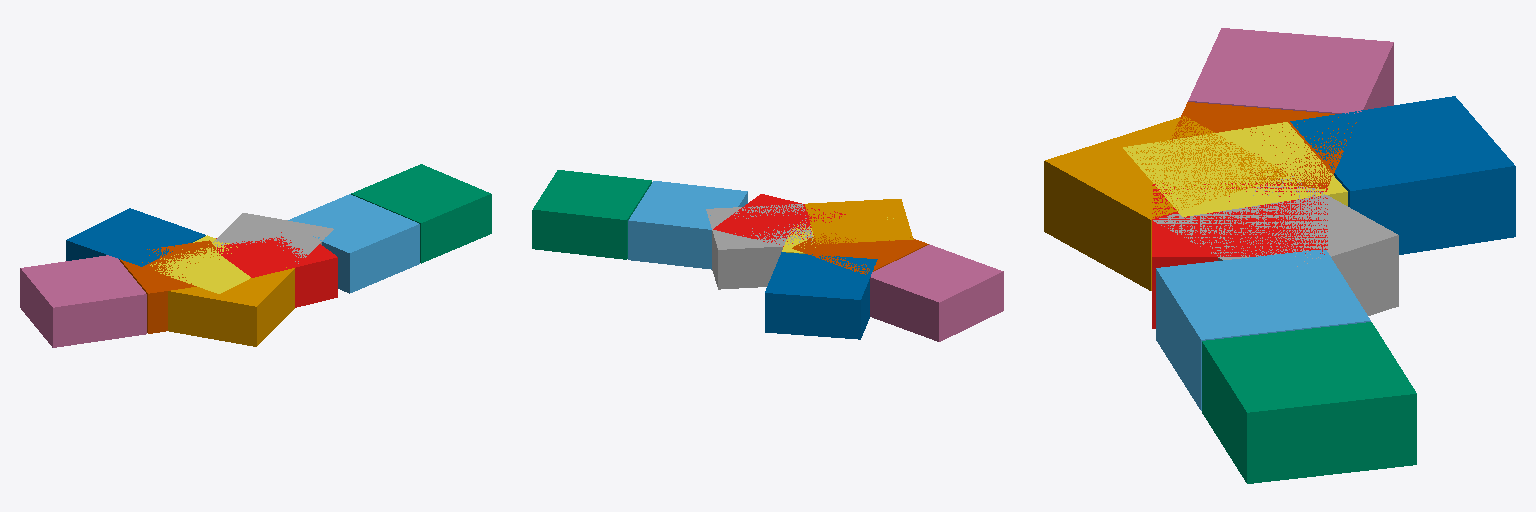
URDF robot description (Model_98):
<?xml version='1.0' encoding='UTF-8'?>
<robot name="Model_98">
  <link name="base_link">
    <inertial>
      <origin xyz="0.0 0.0 0.0" rpy="0.0 -0.0 0.0"/>
      <mass value="1.0"/>
      <inertia ixx="1.0" ixy="0.0" ixz="0.0" iyy="1.0" iyz="0.0" izz="1.0"/>
    </inertial>
    <visual>
      <geometry>
        <box size="0.67 0.67 0.3 "/>
      </geometry>
      <material name="red"/>
      <origin xyz="0.0 0.0 0.0" rpy="0.0 -0.0 0.0"/>
    </visual>
    <collision>
      <geometry>
        <box size="0.67 0.67 0.3 "/>
      </geometry>
      <origin xyz="0.0 0.0 0.0" rpy="0.0 0.0 0.0"/>
    </collision>
  </link>
  <link name="arm_0_arm1">
    <inertial>
      <origin xyz="0.0 0.34 0.0" rpy="0.0 0.0 0.0"/>
      <mass value="1.0"/>
      <inertia ixx="0.0" ixy="0.0" ixz="0.0" iyy="0.0" iyz="0.0" izz="0.0"/>
    </inertial>
    <visual>
      <geometry>
        <box size="0.67 0.67 0.3 "/>
      </geometry>
      <origin xyz="0.0 0.34 0.0" rpy="0.0 0.0 0.0"/>
    </visual>
    <collision>
      <geometry>
        <box size="0.67 0.67 0.3 "/>
      </geometry>
      <origin xyz="0.0 0.34 0.0" rpy="0.0 0.0 0.0"/>
    </collision>
  </link>
  <link name="arm_0_arm2">
    <inertial>
      <origin xyz="0.0 0.34 0.0" rpy="0.0 0.0 0.0"/>
      <mass value="1.0"/>
      <inertia ixx="0.0" ixy="0.0" ixz="0.0" iyy="0.0" iyz="0.0" izz="0.0"/>
    </inertial>
    <visual>
      <geometry>
        <box size="0.67 0.67 0.3 "/>
      </geometry>
      <origin xyz="0.0 0.34 0.0" rpy="0.0 0.0 0.0"/>
    </visual>
    <collision>
      <geometry>
        <box size="0.67 0.67 0.3 "/>
      </geometry>
      <origin xyz="0.0 0.34 0.0" rpy="0.0 0.0 0.0"/>
    </collision>
  </link>
  <link name="arm_1_arm1">
    <inertial>
      <origin xyz="0.0 0.34 0.0" rpy="0.0 0.0 0.0"/>
      <mass value="1.0"/>
      <inertia ixx="0.0" ixy="0.0" ixz="0.0" iyy="0.0" iyz="0.0" izz="0.0"/>
    </inertial>
    <visual>
      <geometry>
        <box size="0.67 0.67 0.3 "/>
      </geometry>
      <origin xyz="0.0 0.34 0.0" rpy="0.0 0.0 0.0"/>
    </visual>
    <collision>
      <geometry>
        <box size="0.67 0.67 0.3 "/>
      </geometry>
      <origin xyz="0.0 0.34 0.0" rpy="0.0 0.0 0.0"/>
    </collision>
  </link>
  <link name="arm_1_arm2">
    <inertial>
      <origin xyz="0.0 0.34 0.0" rpy="0.0 0.0 0.0"/>
      <mass value="1.0"/>
      <inertia ixx="0.0" ixy="0.0" ixz="0.0" iyy="0.0" iyz="0.0" izz="0.0"/>
    </inertial>
    <visual>
      <geometry>
        <box size="0.67 0.67 0.3 "/>
      </geometry>
      <origin xyz="0.0 0.34 0.0" rpy="0.0 0.0 0.0"/>
    </visual>
    <collision>
      <geometry>
        <box size="0.67 0.67 0.3 "/>
      </geometry>
      <origin xyz="0.0 0.34 0.0" rpy="0.0 0.0 0.0"/>
    </collision>
  </link>
  <link name="arm_2_arm1">
    <inertial>
      <origin xyz="0.0 0.34 0.0" rpy="0.0 0.0 0.0"/>
      <mass value="1.0"/>
      <inertia ixx="0.0" ixy="0.0" ixz="0.0" iyy="0.0" iyz="0.0" izz="0.0"/>
    </inertial>
    <visual>
      <geometry>
        <box size="0.67 0.67 0.3 "/>
      </geometry>
      <origin xyz="0.0 0.34 0.0" rpy="0.0 0.0 0.0"/>
    </visual>
    <collision>
      <geometry>
        <box size="0.67 0.67 0.3 "/>
      </geometry>
      <origin xyz="0.0 0.34 0.0" rpy="0.0 0.0 0.0"/>
    </collision>
  </link>
  <link name="arm_2_arm2">
    <inertial>
      <origin xyz="0.0 0.34 0.0" rpy="0.0 0.0 0.0"/>
      <mass value="1.0"/>
      <inertia ixx="0.0" ixy="0.0" ixz="0.0" iyy="0.0" iyz="0.0" izz="0.0"/>
    </inertial>
    <visual>
      <geometry>
        <box size="0.67 0.67 0.3 "/>
      </geometry>
      <origin xyz="0.0 0.34 0.0" rpy="0.0 0.0 0.0"/>
    </visual>
    <collision>
      <geometry>
        <box size="0.67 0.67 0.3 "/>
      </geometry>
      <origin xyz="0.0 0.34 0.0" rpy="0.0 0.0 0.0"/>
    </collision>
  </link>
  <link name="arm_3_arm1">
    <inertial>
      <origin xyz="0.0 0.34 0.0" rpy="0.0 0.0 0.0"/>
      <mass value="1.0"/>
      <inertia ixx="0.0" ixy="0.0" ixz="0.0" iyy="0.0" iyz="0.0" izz="0.0"/>
    </inertial>
    <visual>
      <geometry>
        <box size="0.67 0.67 0.3 "/>
      </geometry>
      <origin xyz="0.0 0.34 0.0" rpy="0.0 0.0 0.0"/>
    </visual>
    <collision>
      <geometry>
        <box size="0.67 0.67 0.3 "/>
      </geometry>
      <origin xyz="0.0 0.34 0.0" rpy="0.0 0.0 0.0"/>
    </collision>
  </link>
  <link name="arm_3_arm2">
    <inertial>
      <origin xyz="0.0 0.34 0.0" rpy="0.0 0.0 0.0"/>
      <mass value="1.0"/>
      <inertia ixx="0.0" ixy="0.0" ixz="0.0" iyy="0.0" iyz="0.0" izz="0.0"/>
    </inertial>
    <visual>
      <geometry>
        <box size="0.67 0.67 0.3 "/>
      </geometry>
      <origin xyz="0.0 0.34 0.0" rpy="0.0 0.0 0.0"/>
    </visual>
    <collision>
      <geometry>
        <box size="0.67 0.67 0.3 "/>
      </geometry>
      <origin xyz="0.0 0.34 0.0" rpy="0.0 0.0 0.0"/>
    </collision>
  </link>
  <joint name="arm_0_jointBase" type="fixed">
    <limit effort="1.57" velocity="1.57" lower="-1.57" upper="1.57"/>
    <parent link="base_link"/>
    <child link="arm_0_arm1"/>
    <axis xyz="1. 0. 0."/>
    <origin xyz="0.34 0.0 0.0" rpy="0.0 0.0 -1.31"/>
  </joint>
  <joint name="arm_0_joint1" type="revolute">
    <limit effort="1.57" velocity="1.57" lower="-1.57" upper="1.57"/>
    <parent link="arm_0_arm1"/>
    <child link="arm_0_arm2"/>
    <axis xyz="1. 0. 0."/>
    <origin xyz="0.0 0.68 0.0" rpy="0.0 0.0 0.0"/>
  </joint>
  <joint name="arm_1_jointBase" type="fixed">
    <limit effort="1.57" velocity="1.57" lower="-1.57" upper="1.57"/>
    <parent link="base_link"/>
    <child link="arm_1_arm1"/>
    <axis xyz="1. 0. 0."/>
    <origin xyz="-0.34 -0.34 0.0" rpy="0.0 0.0 0.35"/>
  </joint>
  <joint name="arm_1_joint1" type="revolute">
    <limit effort="1.57" velocity="1.57" lower="-1.57" upper="1.57"/>
    <parent link="arm_1_arm1"/>
    <child link="arm_1_arm2"/>
    <axis xyz="1. 0. 0."/>
    <origin xyz="0.0 0.68 0.0" rpy="0.0 0.0 0.0"/>
  </joint>
  <joint name="arm_2_jointBase" type="fixed">
    <limit effort="1.57" velocity="1.57" lower="-1.57" upper="1.57"/>
    <parent link="base_link"/>
    <child link="arm_2_arm1"/>
    <axis xyz="1. 0. 0."/>
    <origin xyz="-0.34 0.0 0.0" rpy="0.0 0.0 1.38"/>
  </joint>
  <joint name="arm_2_joint1" type="revolute">
    <limit effort="1.57" velocity="1.57" lower="-1.57" upper="1.57"/>
    <parent link="arm_2_arm1"/>
    <child link="arm_2_arm2"/>
    <axis xyz="1. 0. 0."/>
    <origin xyz="0.0 0.68 0.0" rpy="0.0 0.0 0.0"/>
  </joint>
  <joint name="arm_3_jointBase" type="fixed">
    <limit effort="1.57" velocity="1.57" lower="-1.57" upper="1.57"/>
    <parent link="base_link"/>
    <child link="arm_3_arm1"/>
    <axis xyz="1. 0. 0."/>
    <origin xyz="0.34 0.34 0.0" rpy="0.0 0.0 2.22"/>
  </joint>
  <joint name="arm_3_joint1" type="revolute">
    <limit effort="1.57" velocity="1.57" lower="-1.57" upper="1.57"/>
    <parent link="arm_3_arm1"/>
    <child link="arm_3_arm2"/>
    <axis xyz="1. 0. 0."/>
    <origin xyz="0.0 0.68 0.0" rpy="0.0 0.0 0.0"/>
  </joint>
  <material name="red">
    <color rgba="0.969 0.129 0.122 1.   "/>
  </material>
</robot>

--- Facts derived from the render (not from the file) ---
3 views of the same robot in one strip: view 1: azimuth 30°, elevation 25°; view 2: azimuth 150°, elevation 25°; view 3: azimuth 270°, elevation 25° (orthographic).
Robot: Model_98 — 9 links, 8 joints (4 revolute, 4 fixed); root link base_link; default pose: all joints at 0.
Links seen in each view (by area): view 1: arm_2_arm2, arm_0_arm2, arm_0_arm1, arm_3_arm2, arm_1_arm2, base_link, arm_2_arm1, arm_3_arm1, arm_1_arm1; view 2: arm_2_arm2, arm_1_arm2, arm_0_arm2, arm_0_arm1, arm_3_arm1, arm_3_arm2, base_link, arm_2_arm1; view 3: arm_0_arm2, arm_1_arm2, arm_0_arm1, arm_3_arm2, arm_2_arm2, arm_1_arm1, arm_3_arm1, base_link, arm_2_arm1.
Link boxes in pixels (<box>): arm_2_arm2: <box>20,255,146,347</box>; arm_0_arm2: <box>351,164,491,263</box>; arm_0_arm1: <box>288,194,419,293</box>; arm_3_arm2: <box>168,252,294,346</box>; arm_1_arm2: <box>66,208,205,266</box>; base_link: <box>216,232,337,307</box>; arm_2_arm1: <box>120,240,219,333</box>; arm_3_arm1: <box>213,213,333,263</box>; arm_1_arm1: <box>150,235,250,293</box>; arm_2_arm2: <box>870,244,1003,341</box>; arm_1_arm2: <box>765,252,877,339</box>; arm_0_arm2: <box>532,170,651,259</box>; arm_0_arm1: <box>628,181,747,269</box>; arm_3_arm1: <box>706,204,812,289</box>; arm_3_arm2: <box>805,199,913,244</box>; base_link: <box>713,194,845,246</box>; arm_2_arm1: <box>792,233,928,274</box>; arm_0_arm2: <box>1202,322,1416,483</box>; arm_1_arm2: <box>1290,96,1515,254</box>; arm_0_arm1: <box>1156,249,1370,410</box>; arm_3_arm2: <box>1044,116,1287,290</box>; arm_2_arm2: <box>1188,28,1393,113</box>; arm_1_arm1: <box>1123,122,1347,216</box>; arm_3_arm1: <box>1153,176,1398,315</box>; base_link: <box>1152,183,1327,328</box>; arm_2_arm1: <box>1170,102,1356,188</box>.
Bounding box of the posed robot: 3.47 × 1.79 × 0.3 m (x, y, z).
Geometry: primitives only (box / cylinder / sphere), no mesh files.